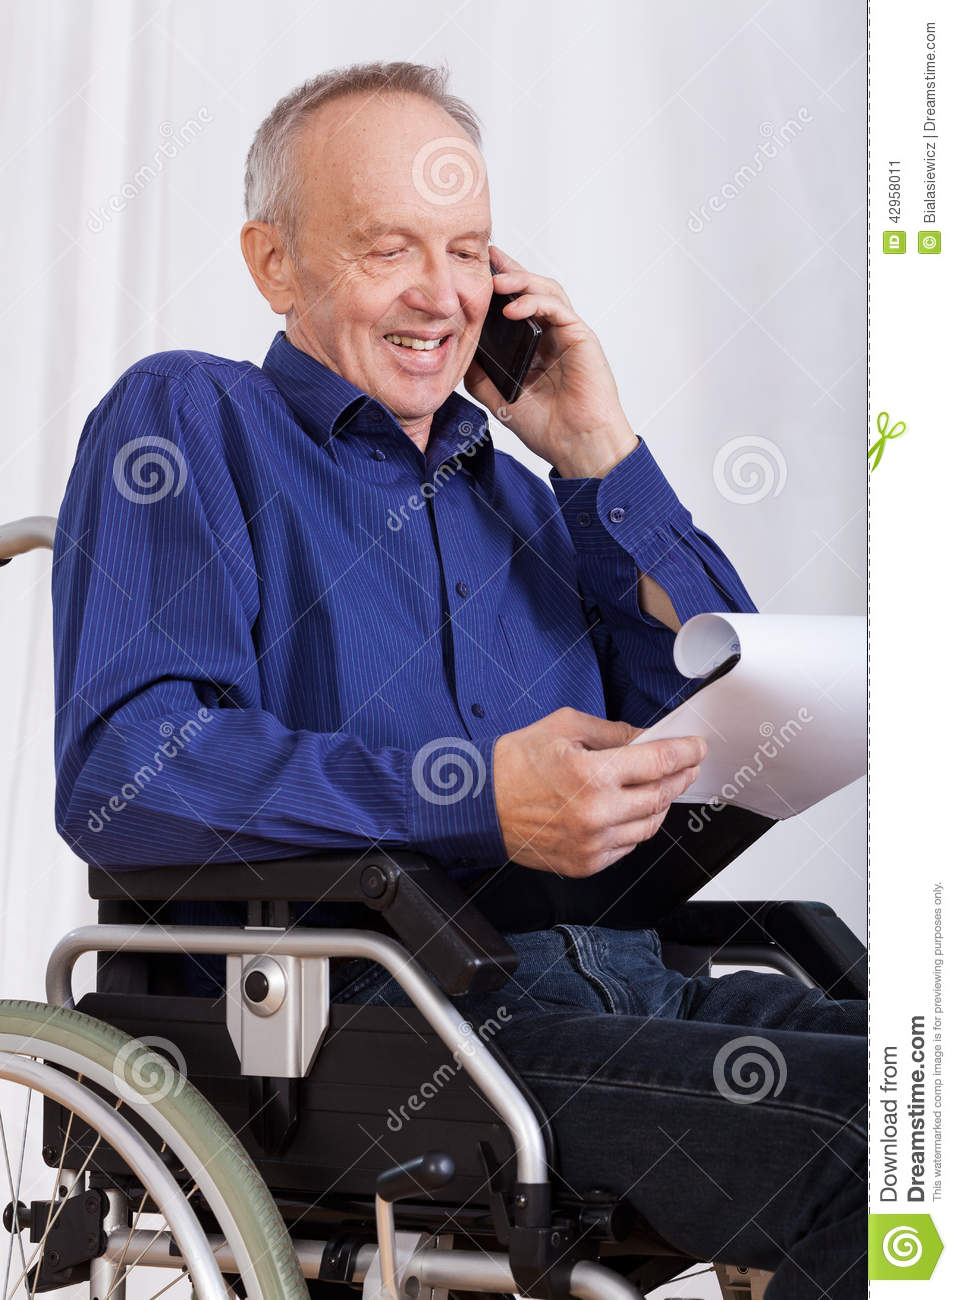phone: (472, 287, 545, 404)
talk: (334, 188, 612, 472)
